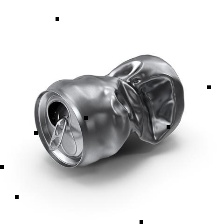can: (25, 52, 186, 171)
